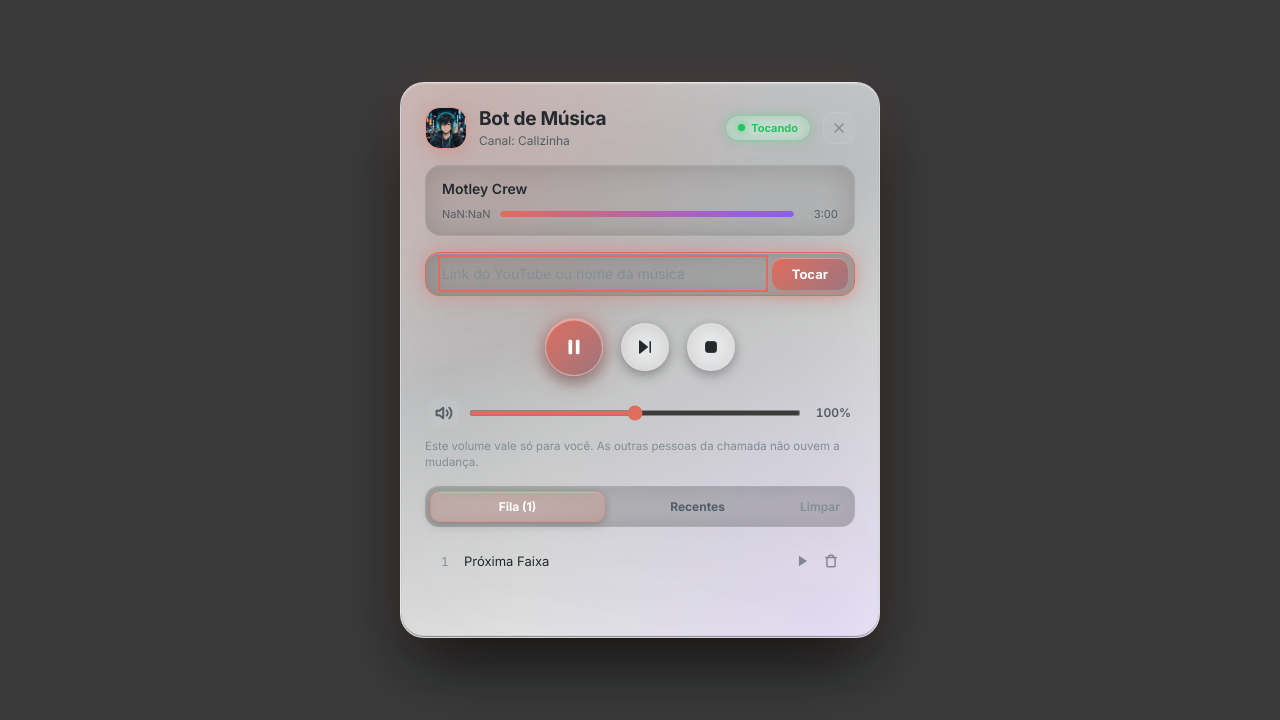
Scenario: Painel do bot de música › erro ao enviar o comando aparece no painel
The width and height of the screenshot is (1280, 720).
Click the button named "Pular" at (645, 347), box 621,323 -> 669,371
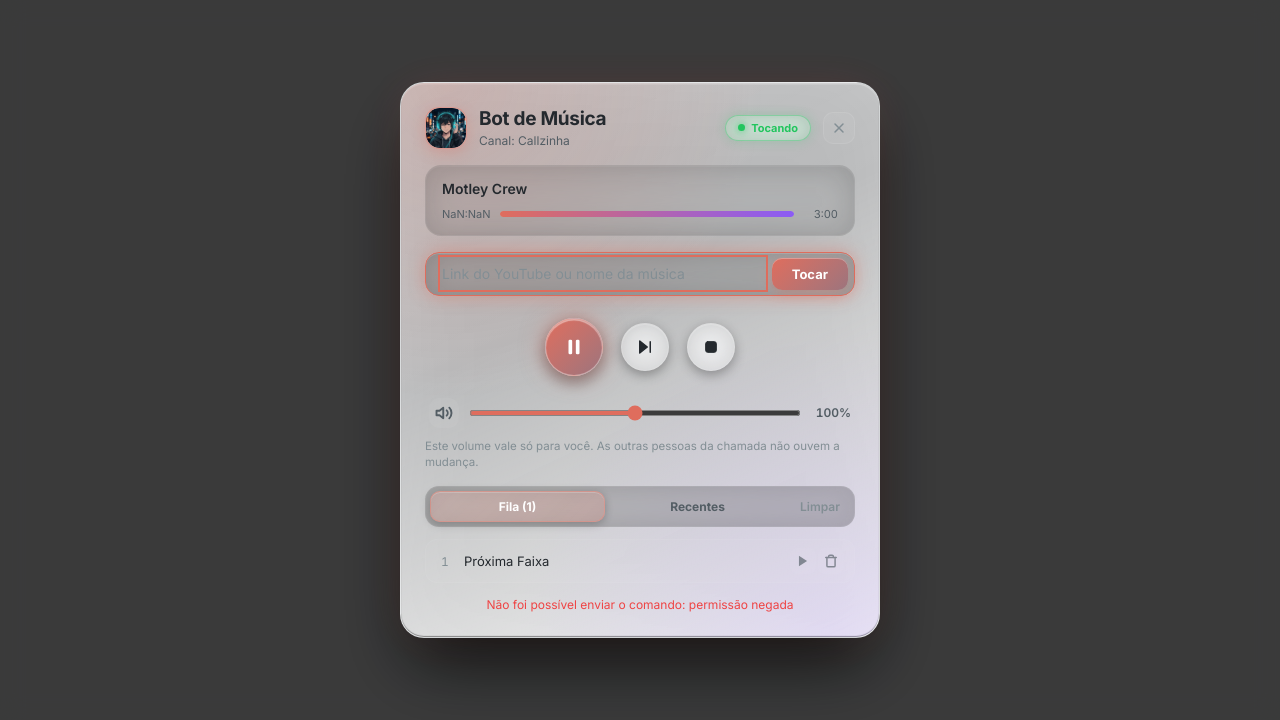
Expected: the text "Não foi possível enviar o comando: permissão negada" is shown, 486,597 -> 794,612
